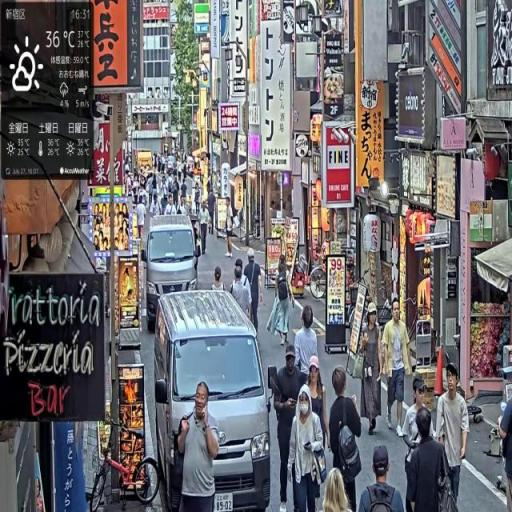person: (273, 346, 306, 512), (179, 383, 220, 512), (436, 363, 471, 501), (330, 368, 363, 512), (288, 386, 324, 512), (404, 376, 436, 512), (383, 299, 413, 438), (407, 408, 445, 512), (297, 347, 332, 449), (361, 304, 383, 437), (360, 447, 405, 512), (268, 255, 296, 346), (296, 306, 319, 375), (245, 249, 263, 332), (499, 400, 512, 512), (324, 468, 357, 512), (232, 267, 252, 318), (199, 202, 210, 255), (226, 198, 235, 259), (137, 198, 147, 241), (208, 189, 217, 235), (212, 268, 226, 293), (165, 195, 178, 216), (151, 195, 163, 217), (195, 183, 202, 217)
